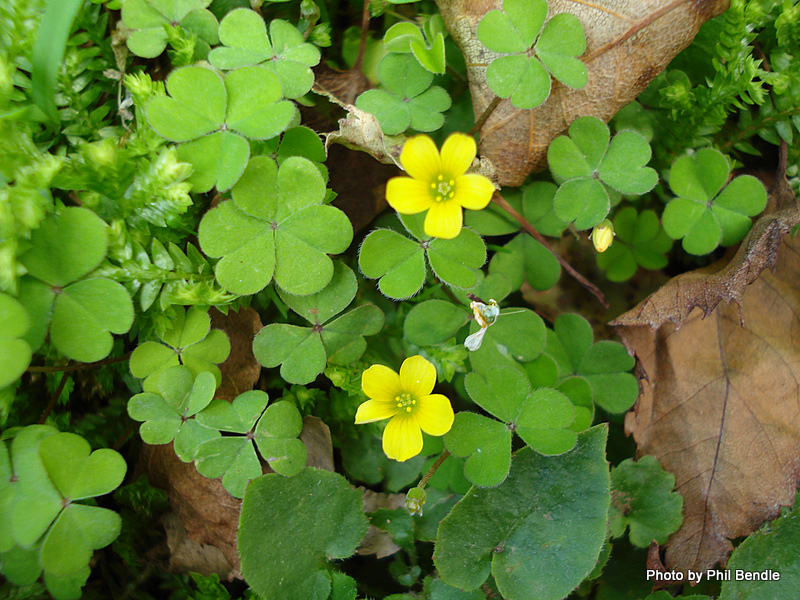oxalis: (117, 24, 742, 517)
